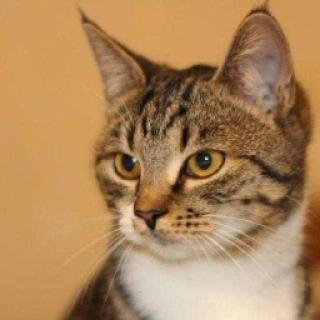cat: (77, 15, 308, 258)
nose: (131, 189, 173, 231)
